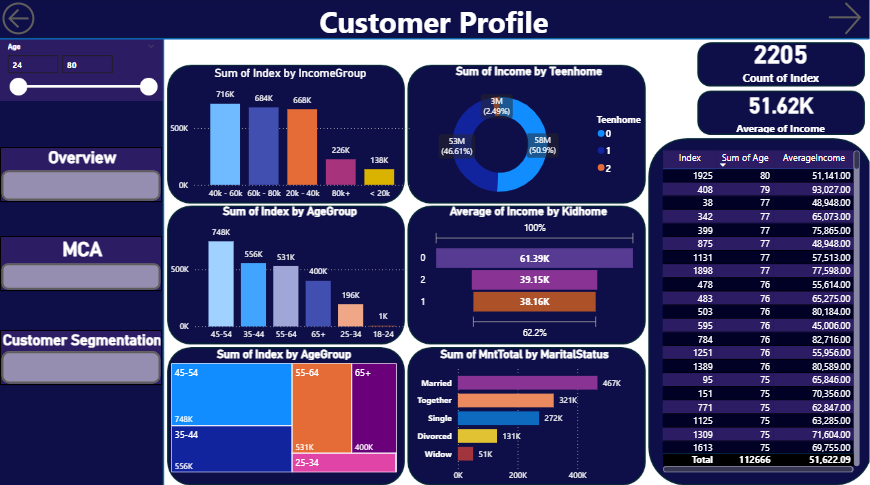

The page's visual inventory and layout, read from the dashboard file:
{"tool":"powerbi","page":{"name":"Customer Profile","canvas":[1280,720],"ordinal":1},"visuals":[{"type":"textbox","box":[461.4,0,358.5,67.6],"z":0},{"type":"columnChart","fields":{"Category":["ifood_df.AgeGroup"],"Y":["Sum(ifood_df.Index)"]},"box":[248.3,302.7,361.5,210.1],"z":1000},{"type":"treemap","fields":{"Group":["ifood_df.AgeGroup"],"Values":["Sum(ifood_df.Index)"]},"box":[249.8,512.8,340.9,189],"z":2000},{"type":"clusteredColumnChart","fields":{"Category":["ifood_df.IncomeGroup"],"Y":["Sum(ifood_df.Index)"]},"box":[248.3,99.9,361.5,199.8],"z":3000},{"type":"donutChart","fields":{"Category":["ifood_df.Teenhome"],"Y":["Sum(ifood_df.Income)"]},"box":[588.9,96.8,382.5,217.5],"z":4000},{"type":"funnel","fields":{"Y":["Avg(ifood_df.Income)"],"Category":["ifood_df.Kidhome"]},"box":[615.7,302.7,327.7,204.2],"z":5000},{"type":"card","fields":{"Values":["Avg(ifood_df.Income)"]},"box":[1063.8,127.8,171.9,74.9],"z":6000},{"type":"barChart","fields":{"Category":["ifood_df.MaritalStatus"],"Y":["Sum(ifood_df.MntTotal)"]},"box":[609.8,512.8,327.7,207.2],"z":7000},{"type":"slicer","fields":{"Values":["ifood_df.Age"]},"box":[1.5,60.2,241,89.6],"z":8000},{"type":"tableEx","fields":{"Values":["ifood_df.Index","Sum(ifood_df.Age)","ifood_df.AverageIncome"]},"box":[971.3,218.9,300,483.4],"z":9000},{"type":"card","fields":{"Values":["Count(ifood_df.Index)"]},"box":[1069.7,48.5,161.6,82.3],"z":10000},{"type":"shape","box":[179.3,60.2,127.8,659.8],"z":11000},{"type":"shape","box":[2.9,0,1276.9,120.5],"z":12000},{"type":"actionButton","box":[0,0,63.5,60.3],"z":13000},{"type":"actionButton","box":[1214.3,0,65.1,60.3],"z":14000},{"type":"actionButton","title":"MCA","box":[3.2,349.2,238.1,81],"z":15000},{"type":"actionButton","title":"Overview","box":[2.9,218.9,238,80.8],"z":16000},{"type":"actionButton","title":"Customer Segmentation","box":[2.9,487.8,238,80.8],"z":17000}]}

Visuals, with their boxes in screenshot pixels (x1, y1, x2, y2), scaled from the page's 1280x720 canvas onto the 870x485 screenshot:
textbox: pyautogui.locateOnScreen(314, 0, 557, 46)
columnChart - ifood_df.AgeGroup x Sum(ifood_df.Index): pyautogui.locateOnScreen(169, 204, 414, 345)
treemap - ifood_df.AgeGroup x Sum(ifood_df.Index): pyautogui.locateOnScreen(170, 345, 401, 473)
clusteredColumnChart - ifood_df.IncomeGroup x Sum(ifood_df.Index): pyautogui.locateOnScreen(169, 67, 414, 202)
donutChart - ifood_df.Teenhome x Sum(ifood_df.Income): pyautogui.locateOnScreen(400, 65, 660, 212)
funnel - Avg(ifood_df.Income) x ifood_df.Kidhome: pyautogui.locateOnScreen(418, 204, 641, 341)
card - Avg(ifood_df.Income): pyautogui.locateOnScreen(723, 86, 840, 137)
barChart - ifood_df.MaritalStatus x Sum(ifood_df.MntTotal): pyautogui.locateOnScreen(414, 345, 637, 484)
slicer - ifood_df.Age: pyautogui.locateOnScreen(1, 41, 165, 101)
tableEx - ifood_df.Index x Sum(ifood_df.Age): pyautogui.locateOnScreen(660, 147, 864, 473)
card - Count(ifood_df.Index): pyautogui.locateOnScreen(727, 33, 837, 88)
shape: pyautogui.locateOnScreen(122, 41, 209, 484)
shape: pyautogui.locateOnScreen(2, 0, 869, 81)
actionButton: pyautogui.locateOnScreen(0, 0, 43, 41)
actionButton: pyautogui.locateOnScreen(825, 0, 869, 41)
"MCA" actionButton: pyautogui.locateOnScreen(2, 235, 164, 290)
"Overview" actionButton: pyautogui.locateOnScreen(2, 147, 164, 202)
"Customer Segmentation" actionButton: pyautogui.locateOnScreen(2, 329, 164, 383)
